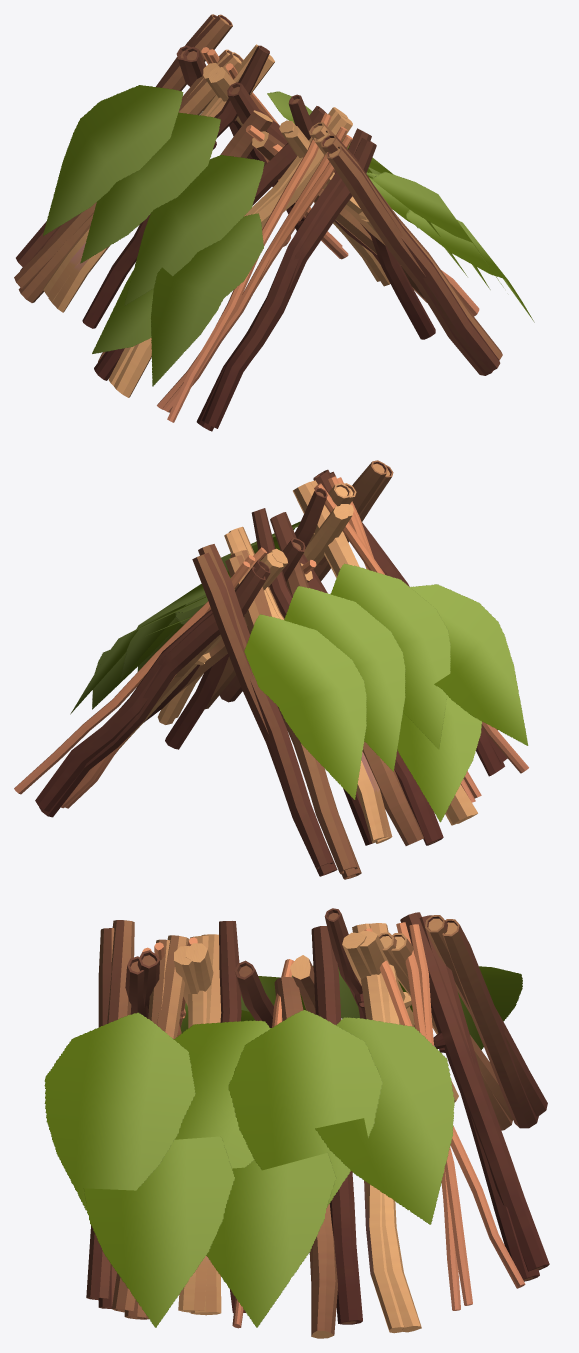
The model's file is CrowShelterLeaves.fbx.
3 views of the same model, one above another, from view 1: azimuth 30°, elevation 25°; view 2: azimuth 150°, elevation 25°; view 3: azimuth 270°, elevation 25° (orthographic). The views are drawn at different scales.
Parts seen in each view (by area): view 1: TwigStructure2; view 2: TwigStructure2; view 3: TwigStructure2.
Boxes of the visible parts, x1=… form: TwigStructure2: x1=14, y1=14, x2=534, y2=431; TwigStructure2: x1=14, y1=460, x2=528, y2=879; TwigStructure2: x1=44, y1=908, x2=549, y2=1338.
Bounding box in the file's own units: 166 × 115 × 168.
